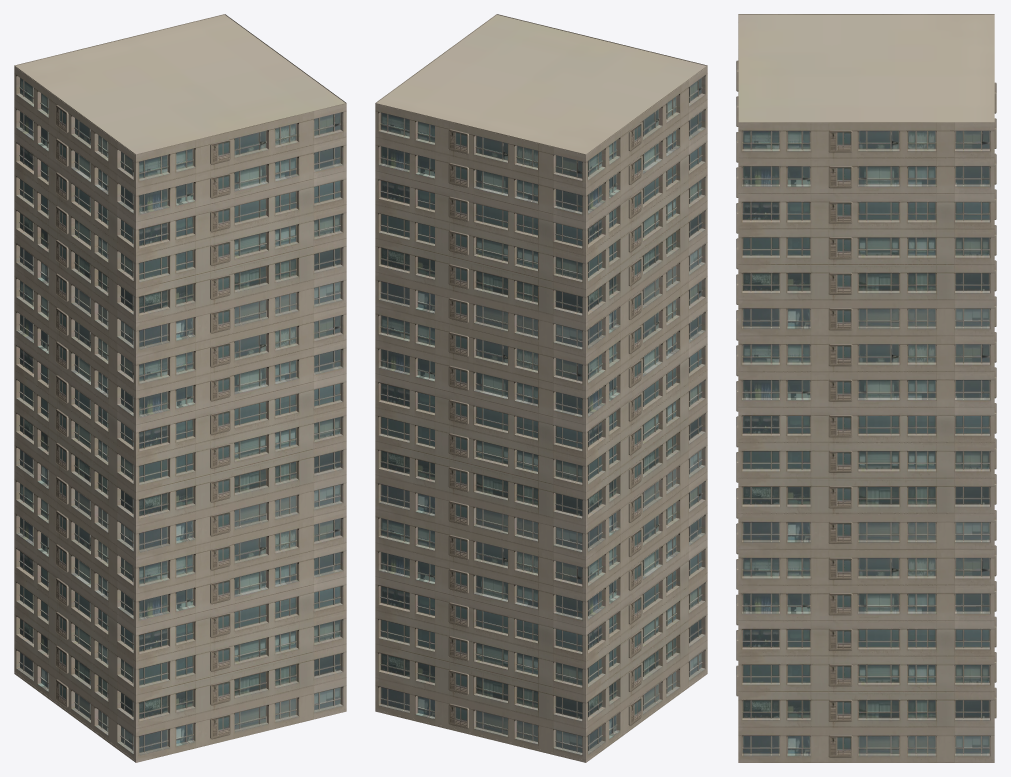
The model's file is building_06.glb.
3 renders of one model, left to right at view 1: azimuth 30°, elevation 25°; view 2: azimuth 150°, elevation 25°; view 3: azimuth 270°, elevation 25°, orthographic. The views are drawn at different scales.
Parts seen in each view (by area): view 1: Object_4, Object_9; view 2: Object_4, Object_9; view 3: Object_4, Object_9.
Part boxes in pixels (x1,y1,x2,y2): Object_4: (14, 14, 346, 762); Object_9: (20, 78, 340, 752); Object_4: (375, 14, 707, 762); Object_9: (380, 78, 701, 752); Object_4: (736, 14, 996, 762); Object_9: (742, 131, 989, 753).
Bounding box in the file's own units: 1.1 × 3 × 1.1.
Materials: 2 (2 with a texture image).
